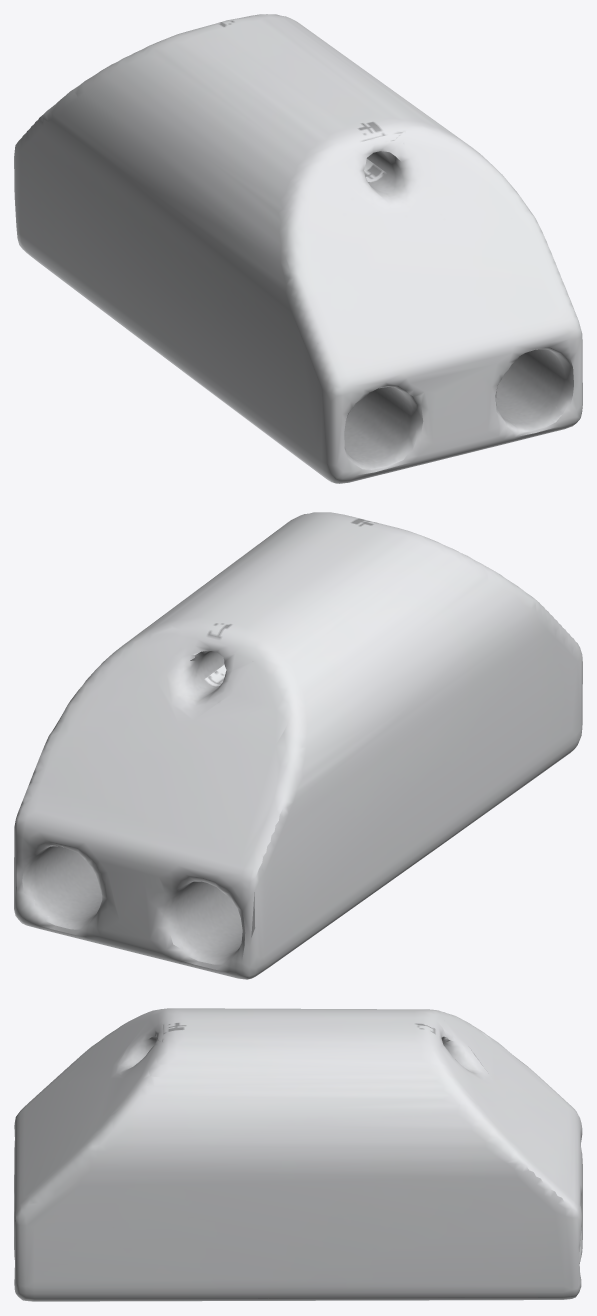
File: left_finger2_lower.obj
3 views of the same model, one above another, from view 1: azimuth 30°, elevation 25°; view 2: azimuth 150°, elevation 25°; view 3: azimuth 270°, elevation 25° (orthographic). The views are drawn at different scales.
Visible parts, largest first — view 1: left_finger2_lower; view 2: left_finger2_lower; view 3: left_finger2_lower.
Boxes of the visible parts, bbox=[...] form: left_finger2_lower: bbox=[14, 14, 582, 483]; left_finger2_lower: bbox=[14, 512, 582, 979]; left_finger2_lower: bbox=[14, 1008, 582, 1301].
Size of the model in its own units: 0.0125 by 0.0125 by 0.028.
Materials: 1 (1 with a texture image).
